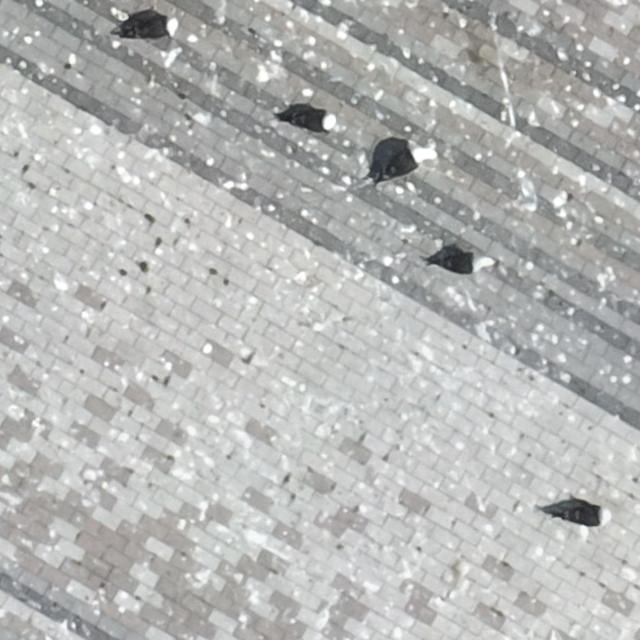umineko: (376, 146, 436, 181), (549, 501, 611, 525), (126, 16, 176, 38), (428, 253, 492, 270), (287, 112, 336, 132)
